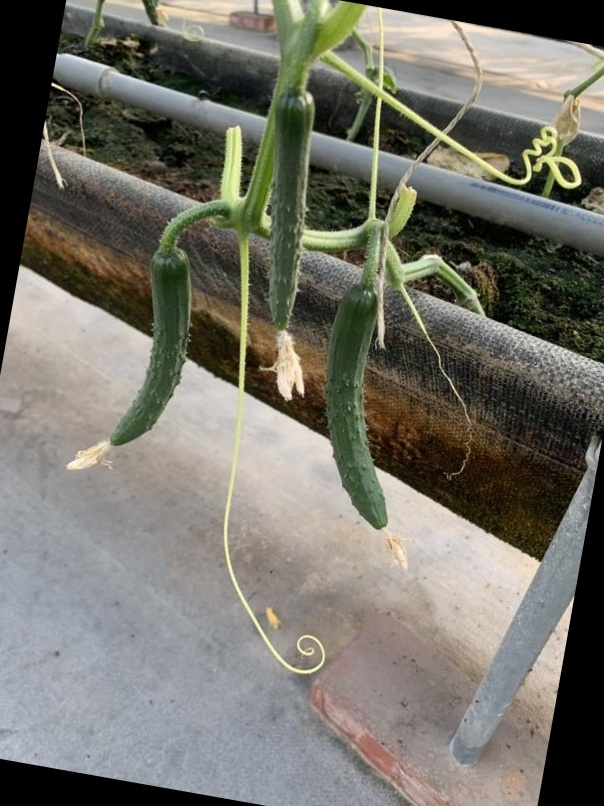growth: (100, 241, 197, 451), (261, 89, 318, 337)
mature: (321, 283, 394, 537)
